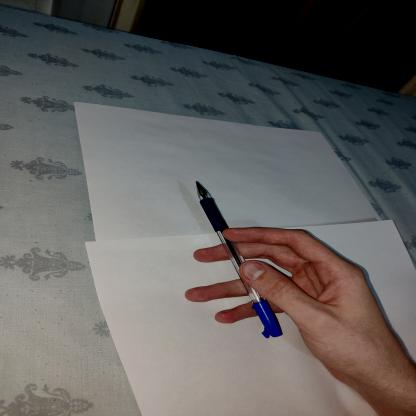pen: (172, 163, 298, 362)
